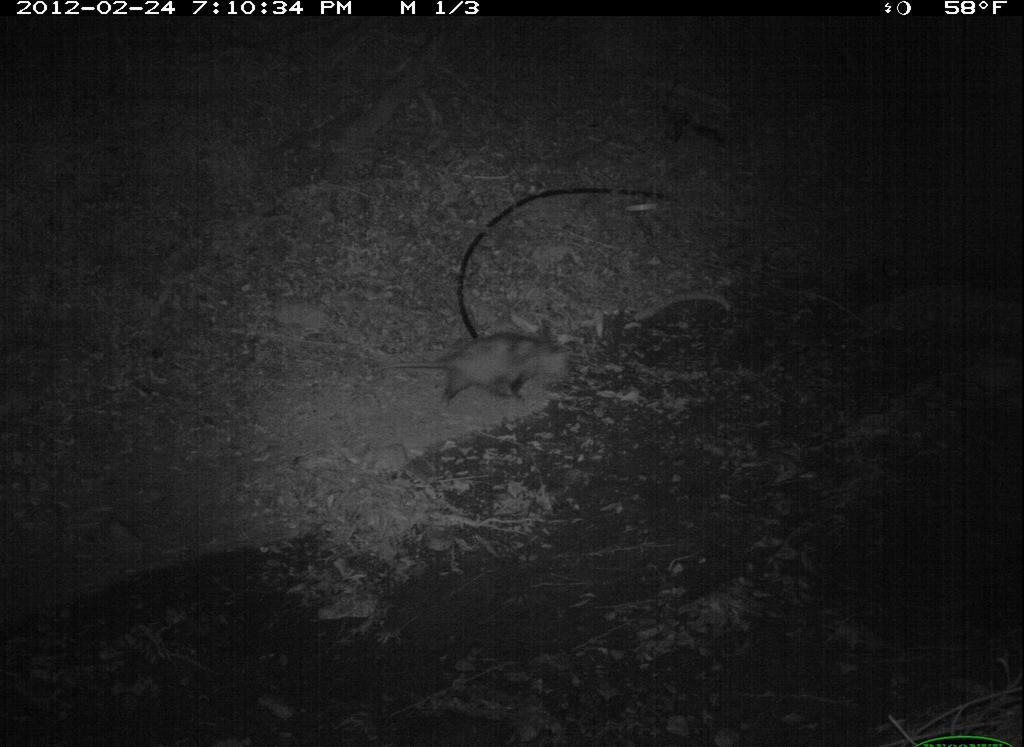opossum: (378, 318, 583, 410)
